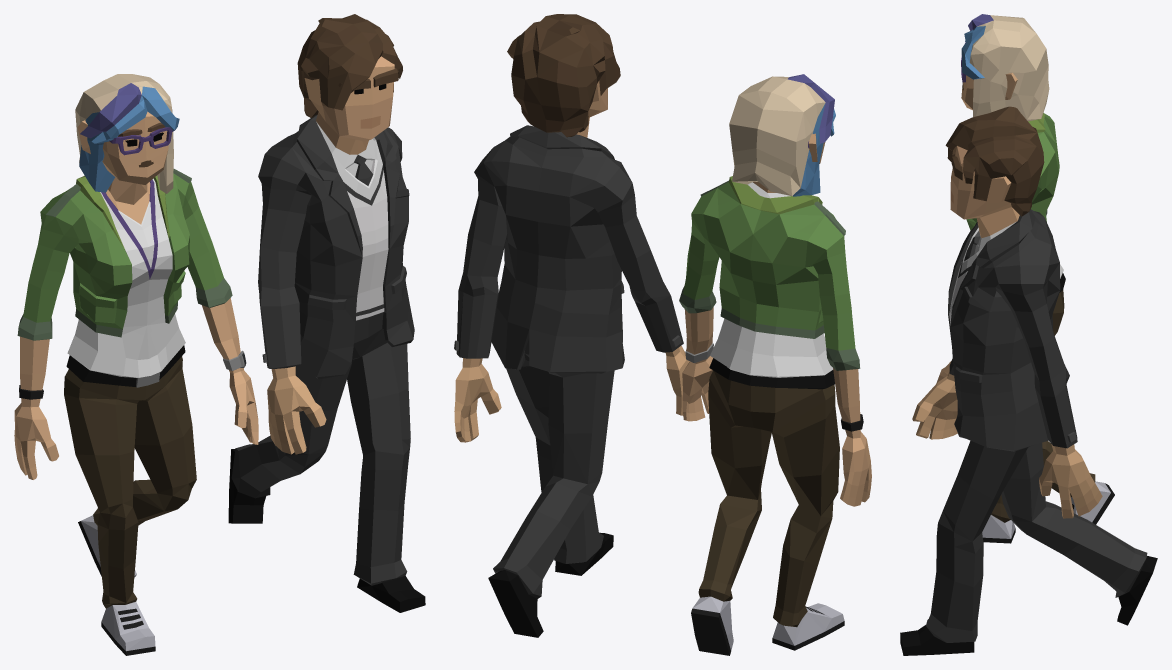
File: 2persons_walking.glb
The picture shows the model from 3 angles, left to right: view 1: azimuth 30°, elevation 25°; view 2: azimuth 150°, elevation 25°; view 3: azimuth 270°, elevation 25°; orthographic projection. The views are drawn at different scales.
Visible parts, largest first — view 1: Character_1; view 2: Character_1; view 3: Character_1.
Part boxes in pixels (left/top/right/bottom): Character_1: left=14, top=14, right=425, bottom=655; Character_1: left=454, top=14, right=871, bottom=655; Character_1: left=900, top=14, right=1157, bottom=655.
Size of the model in its own units: 1.31 by 1.81 by 0.7988.
1 material, 1 textured.
